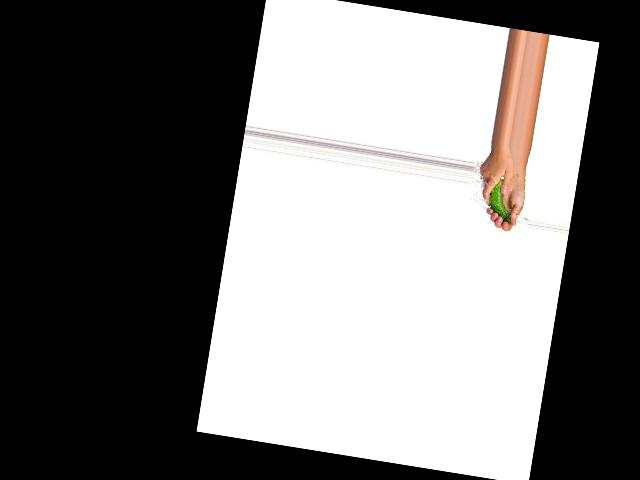cucumber: (485, 176, 516, 223)
